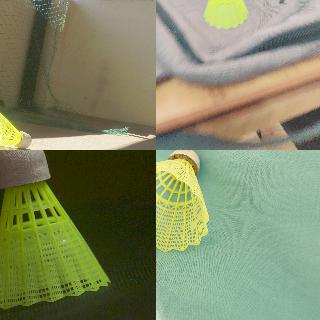shuttlecock: (0, 150, 109, 312), (156, 150, 209, 253), (0, 107, 32, 149), (202, 0, 248, 28)
